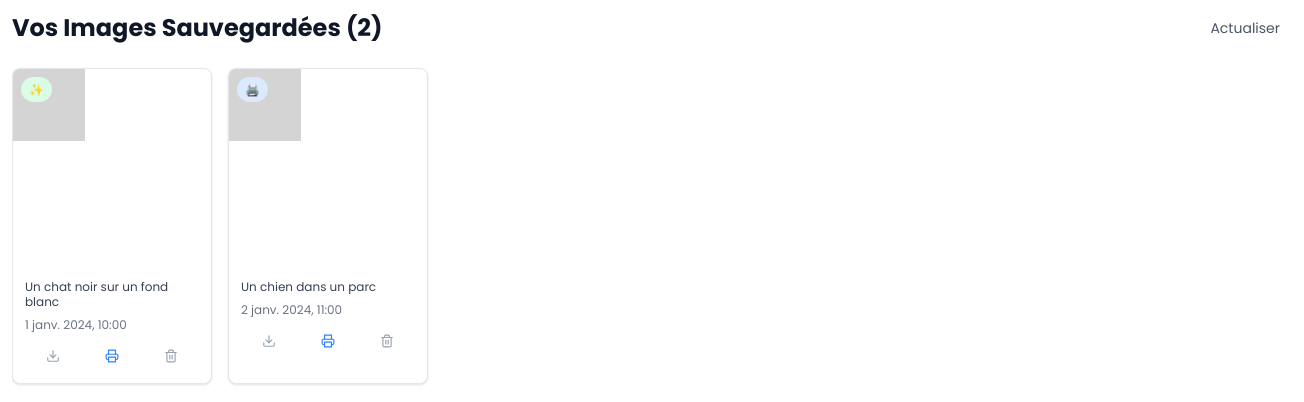
SavedImages › Suppression d'image › supprime une image localement après confirmation
This screenshot has width=1304, height=402.
Expected: the heading "Vos Images Sauvegardées (2)" is shown, [12, 12, 382, 44]
What coordinates should you click on to do the following:
click the button titled "Supprimer" below "1 janv. 2024, 10:00"
I would click on:
 (171, 356)
Its box is [144, 341, 199, 371].
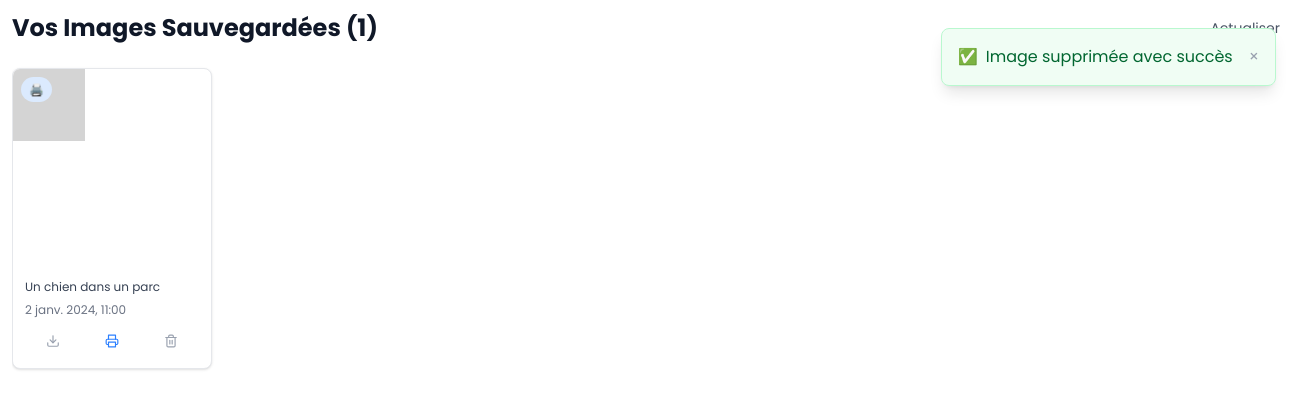
Expected: the heading "Vos Images Sauvegardées (1)" is shown, [12, 12, 378, 44]
Expected: the text "Image supprimée avec succès" is shown, [986, 45, 1233, 69]
